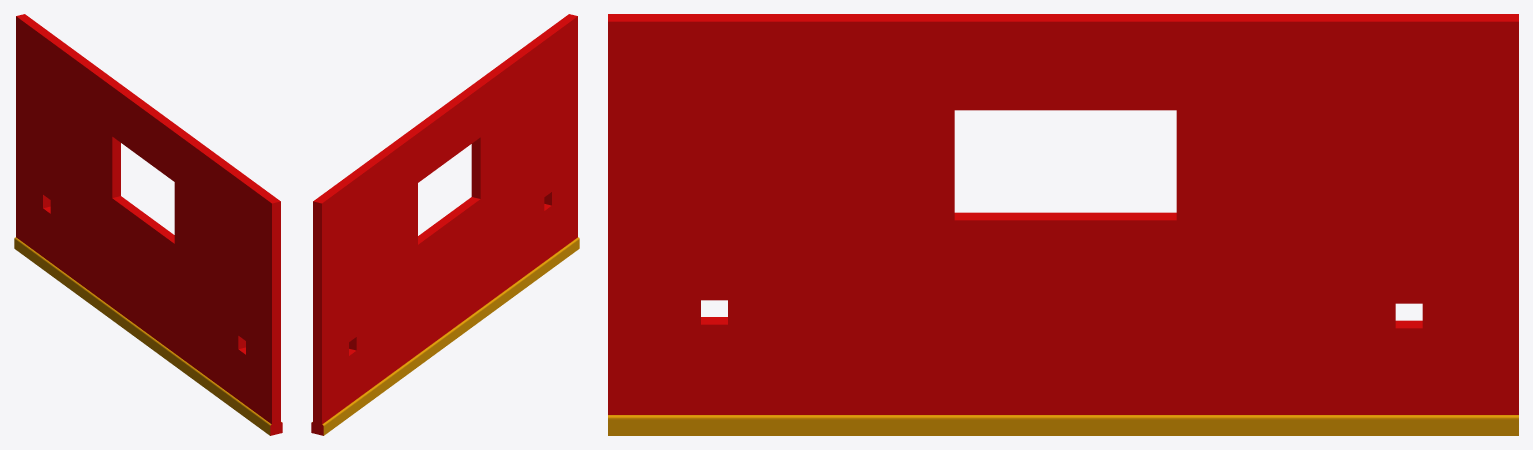
Rendered from Wall_05_Window.fbx.
The picture shows the model from 3 angles, left to right: view 1: azimuth 30°, elevation 25°; view 2: azimuth 150°, elevation 25°; view 3: azimuth 270°, elevation 25°; orthographic projection. The views are drawn at different scales.
Parts seen in each view (by area): view 1: Wall_05; view 2: Wall_05; view 3: Wall_05.
Part boxes in pixels (box(x1,y1,x2,y2)): Wall_05: box(14, 14, 282, 435); Wall_05: box(311, 14, 579, 435); Wall_05: box(608, 14, 1518, 435).
Bounding box in the file's own units: 282 × 5000 × 10000.
